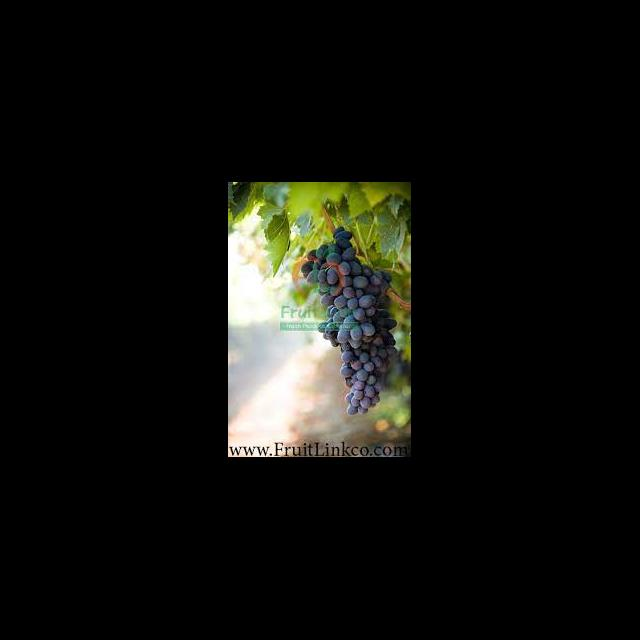grape: (301, 225, 398, 416)
